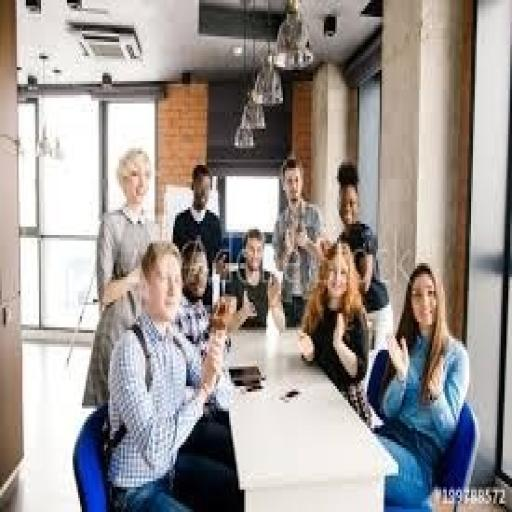clapping: (104, 238, 233, 509), (369, 260, 471, 509), (296, 238, 372, 420), (270, 154, 326, 327), (222, 226, 286, 336)
